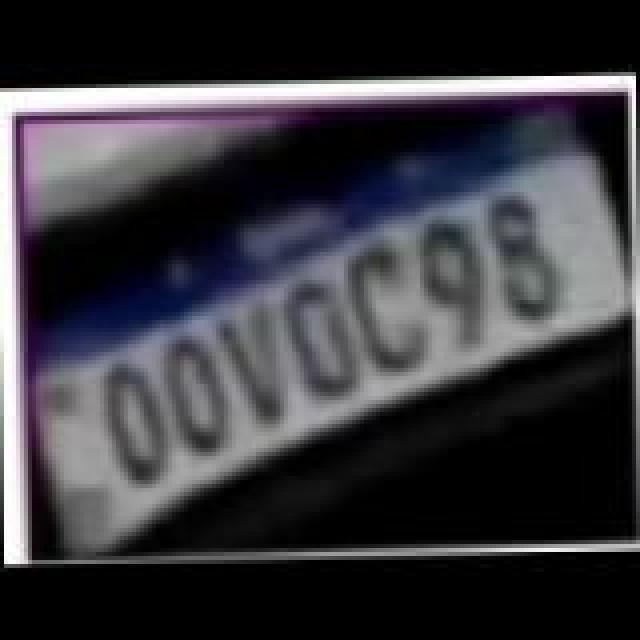8: (478, 190, 574, 322)
9: (410, 218, 502, 350)
C: (342, 234, 442, 374)
D: (272, 272, 368, 404)
O: (96, 358, 180, 490), (158, 326, 238, 458)
V: (208, 302, 296, 434)
